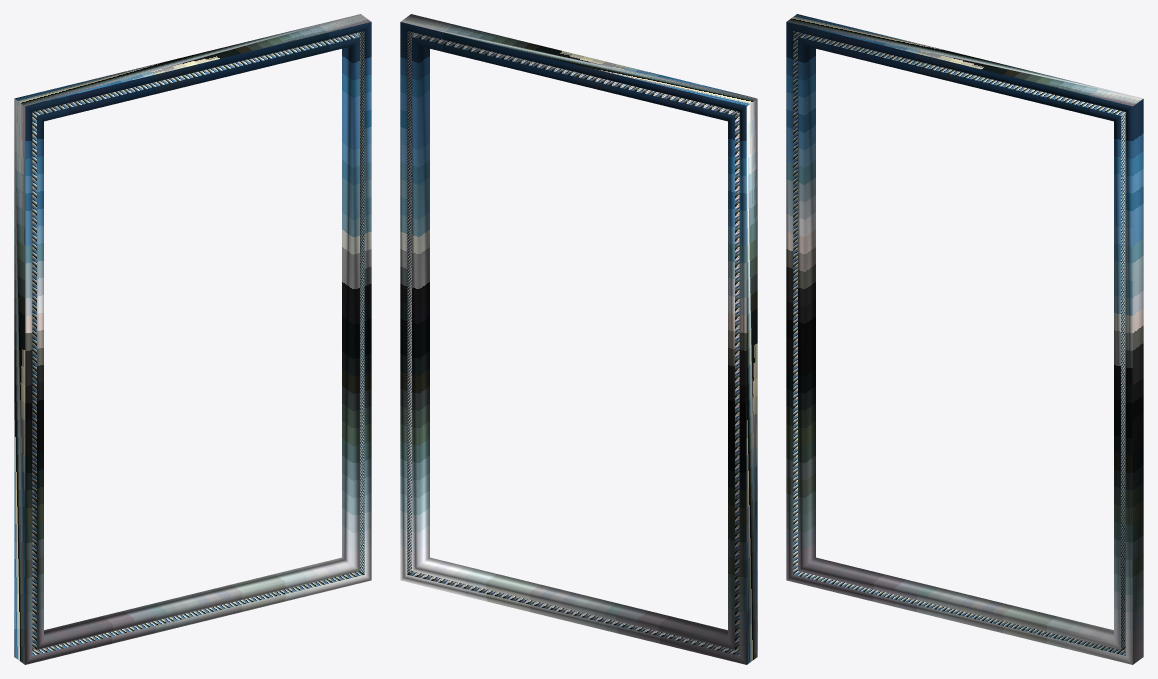
File: ElevatorPlatformPath.obj
3 renders of one model, left to right at view 1: azimuth 30°, elevation 25°; view 2: azimuth 150°, elevation 25°; view 3: azimuth 330°, elevation 25°, orthographic.
Visible parts, largest first — view 1: ElevatorPlatformPath; view 2: ElevatorPlatformPath; view 3: ElevatorPlatformPath.
Part boxes in pixels (x1,y1,x2,y2): ElevatorPlatformPath: (14, 14, 371, 664); ElevatorPlatformPath: (400, 14, 757, 664); ElevatorPlatformPath: (786, 14, 1143, 664).
Bounding box in the file's own units: 207 × 319 × 11.2.
1 material, 1 textured.
